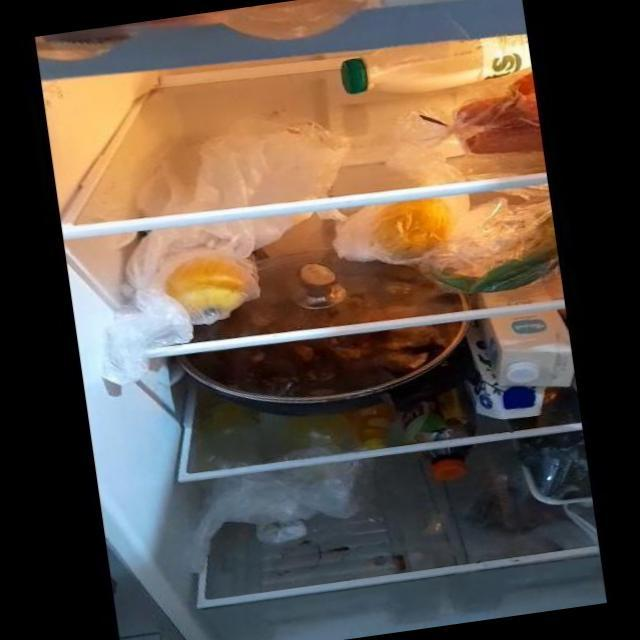Zanahoria: (454, 87, 540, 156)
